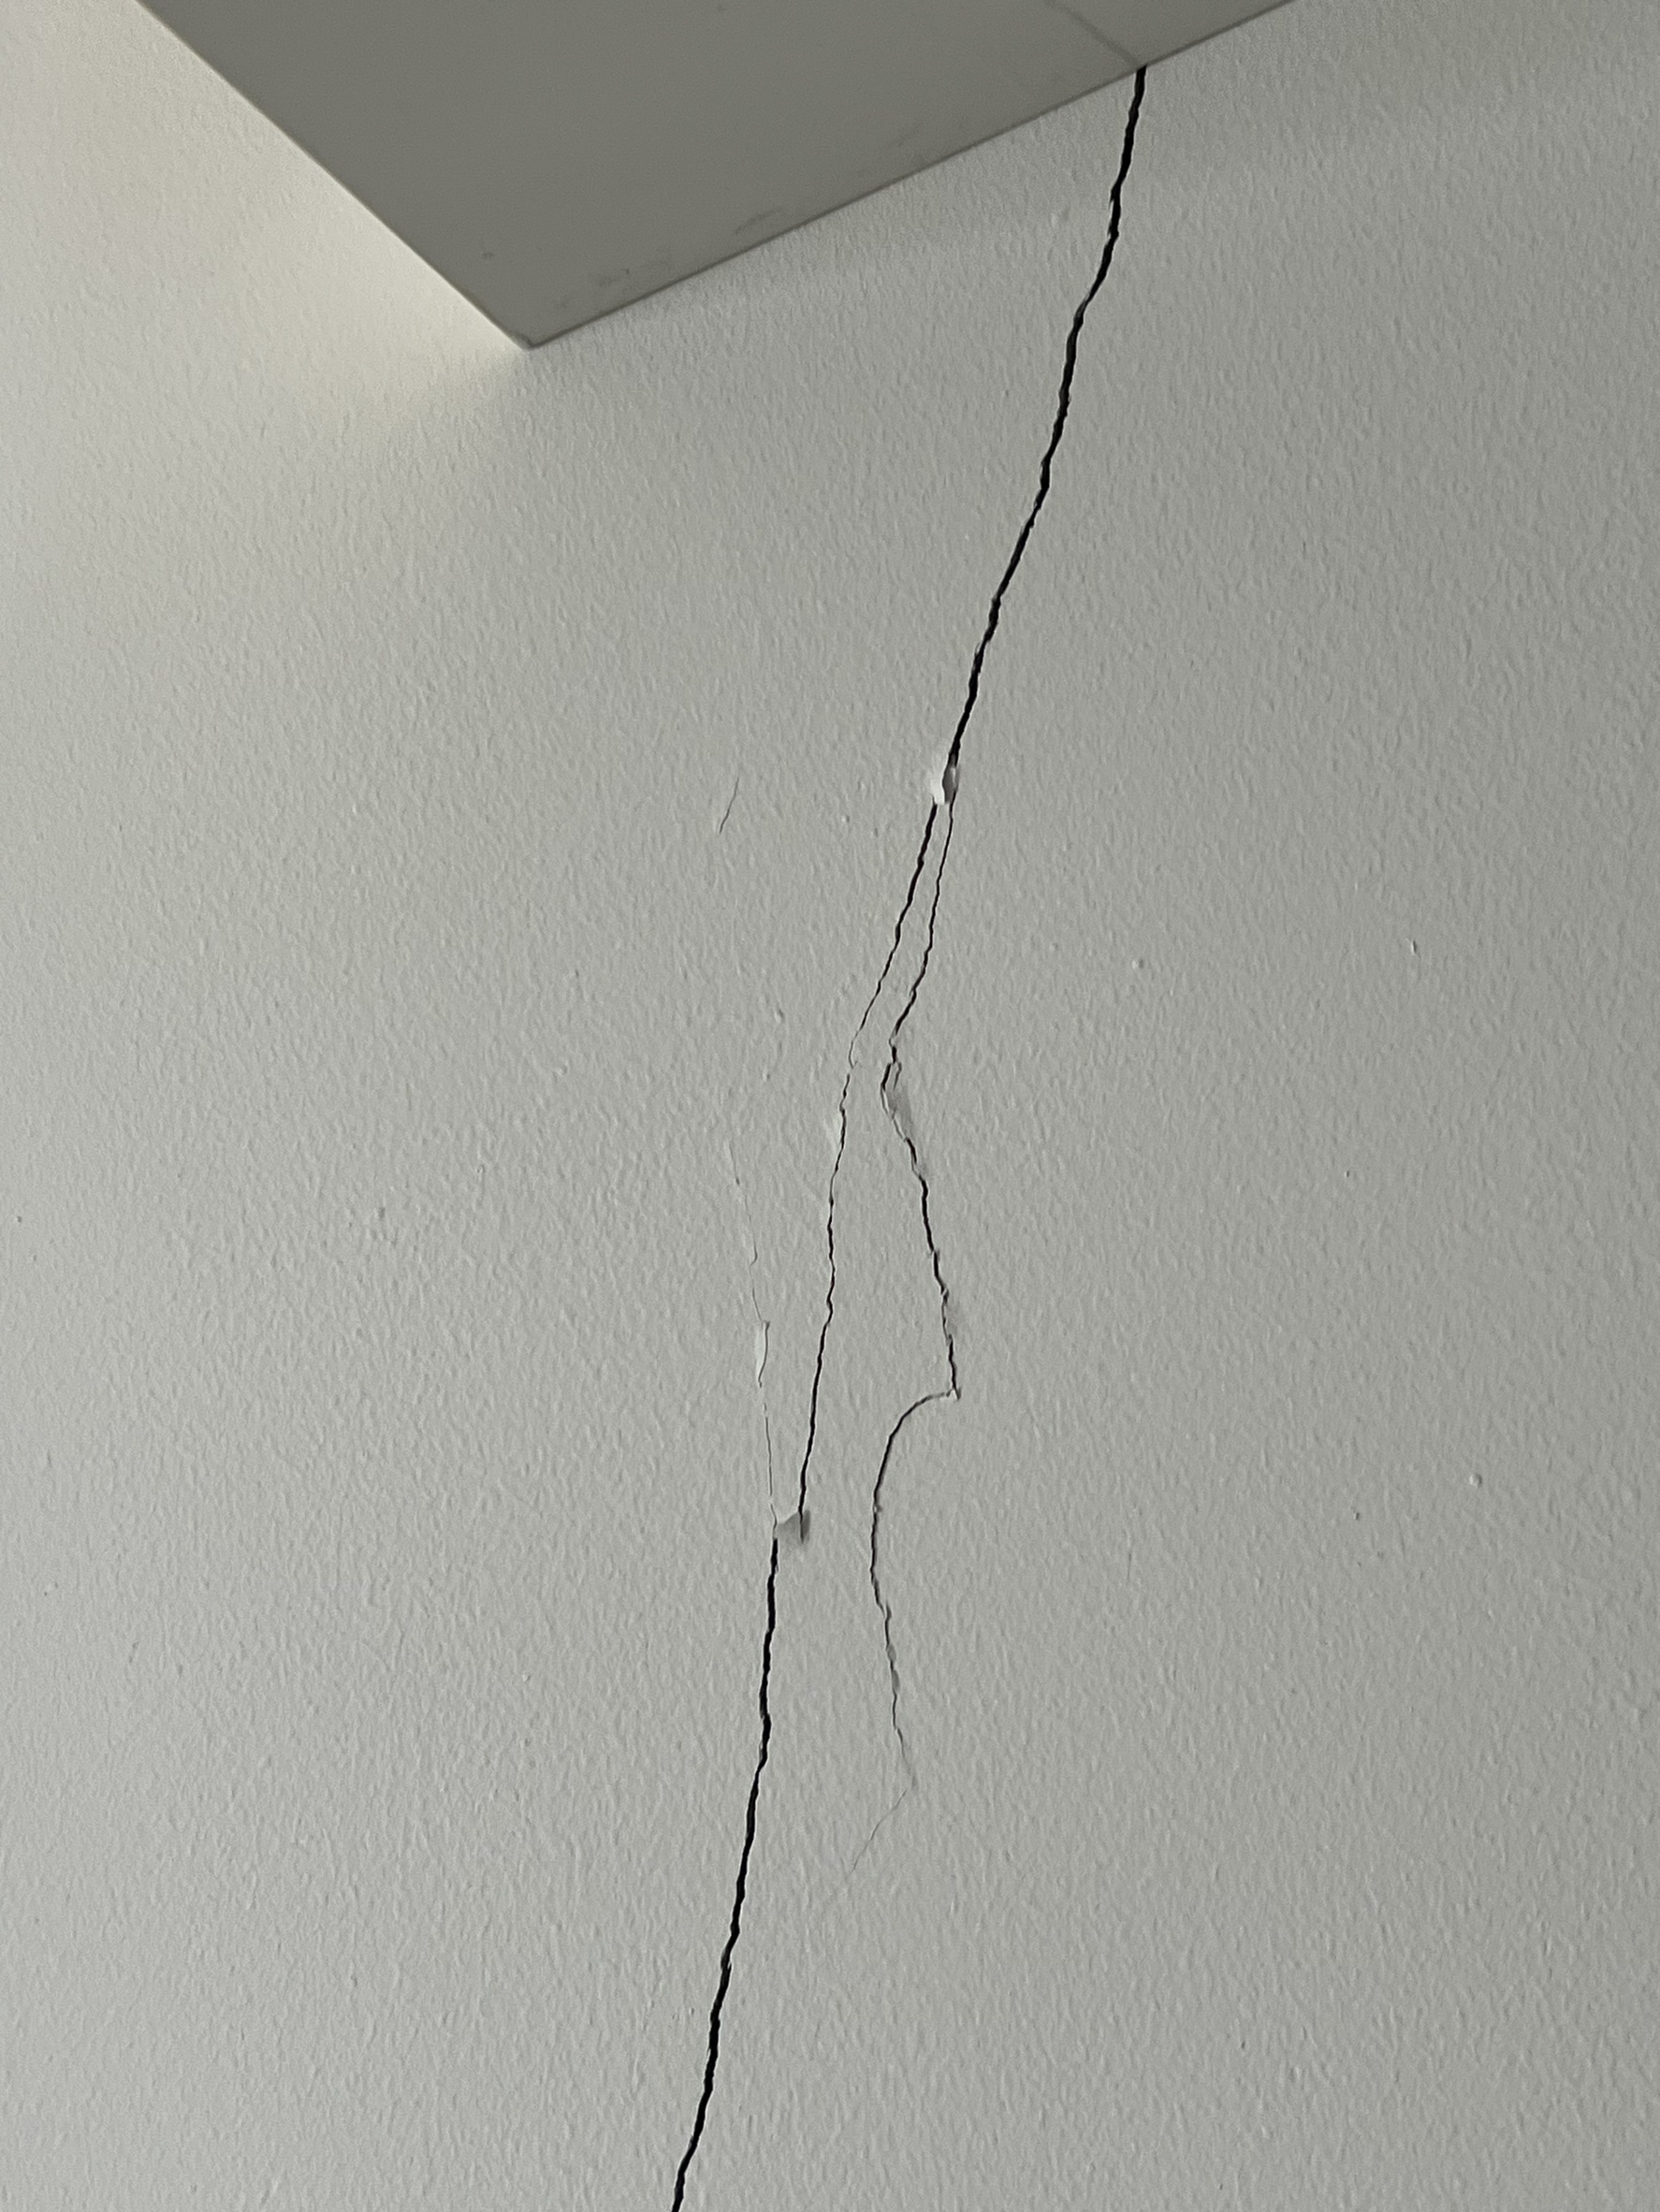Medium: (605, 291, 1327, 1912)
